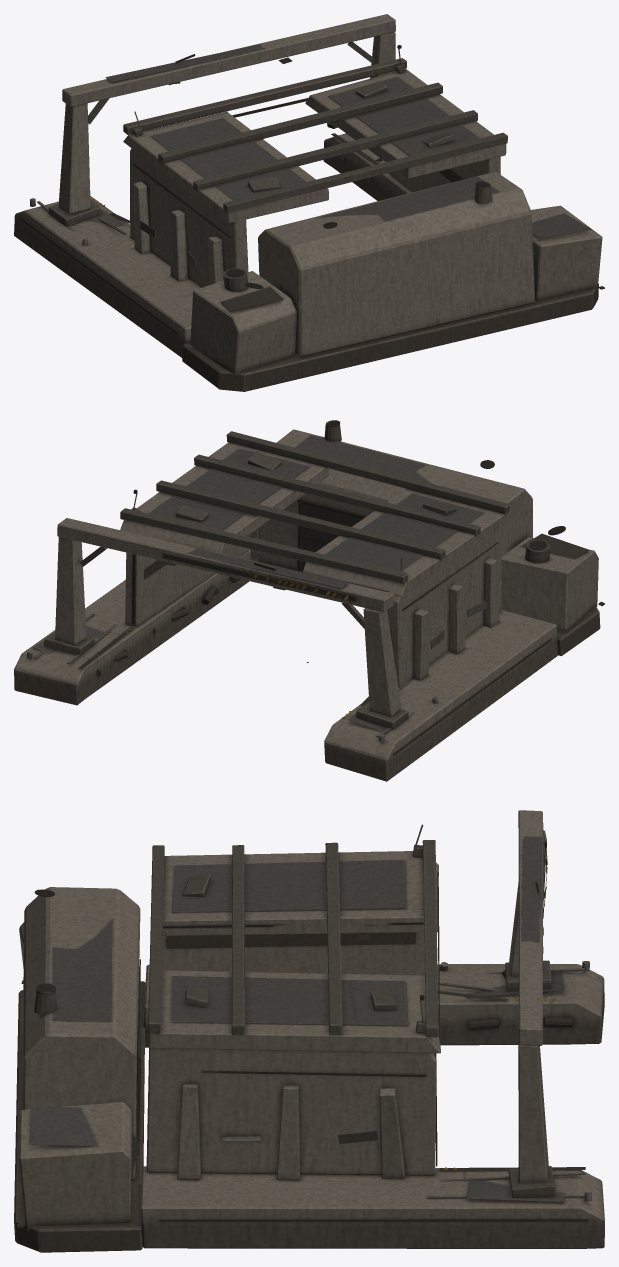
The model's file is ord_advshipyard_wreck.fbx.
3 views of the same model, one above another, from view 1: azimuth 30°, elevation 25°; view 2: azimuth 150°, elevation 25°; view 3: azimuth 270°, elevation 25° (orthographic). The views are drawn at different scales.
Visible parts, largest first — view 1: base_bar, gantry_bar; view 2: base_bar, gantry_bar; view 3: base_bar, gantry_bar.
Boxes of the visible parts, x1=… form: base_bar: x1=14, y1=45, x2=604, y2=391; gantry_bar: x1=48, y1=14, x2=395, y2=226; base_bar: x1=14, y1=420, x2=604, y2=781; gantry_bar: x1=44, y1=518, x2=408, y2=729; base_bar: x1=14, y1=824, x2=604, y2=1252; gantry_bar: x1=502, y1=810, x2=555, y2=1197.
Bounding box in the file's own units: 4721 × 2015 × 4748.
Materials: 2 (2 with a texture image).
